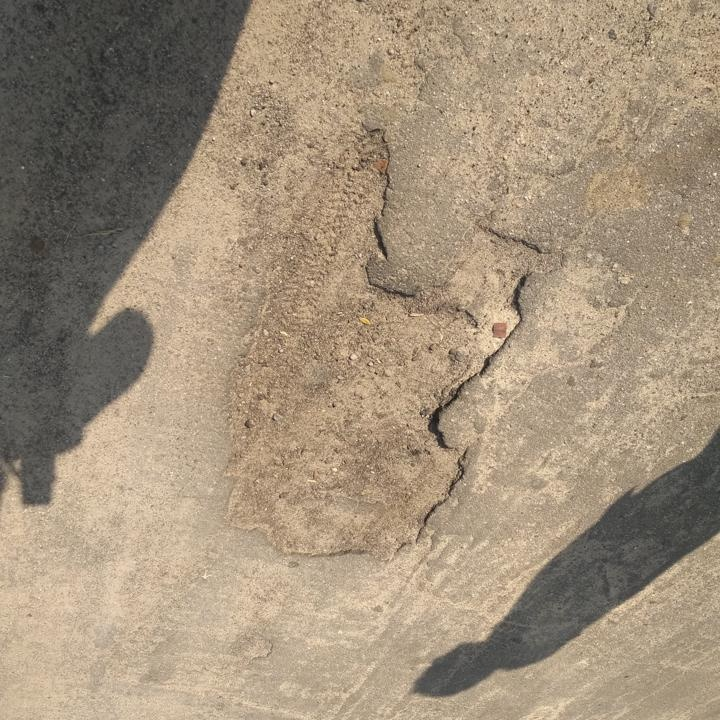pothole: (215, 124, 566, 569)
